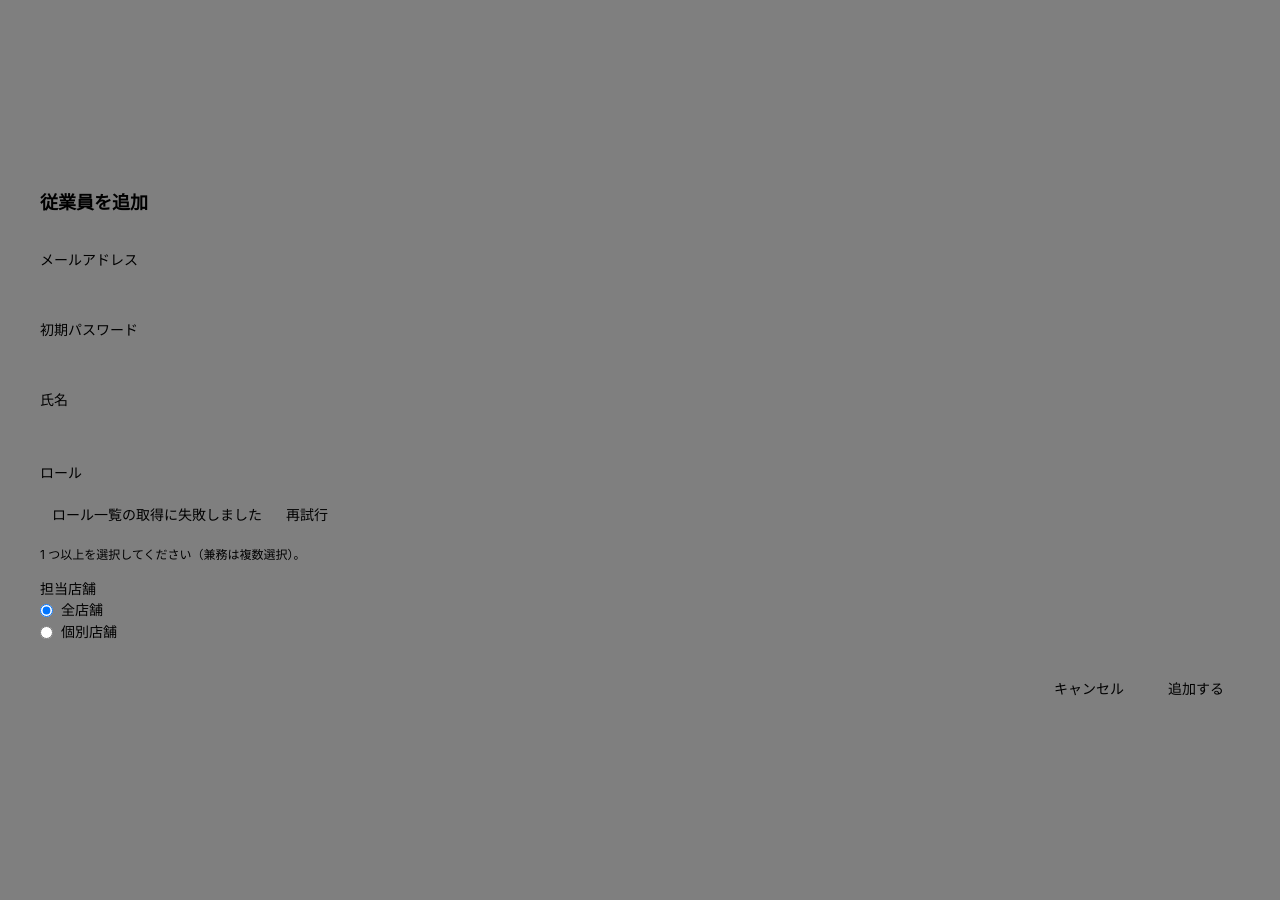
共通作成モーダル › ロール目録の取得に失敗したら、その組が失敗を名乗り再試行できる
The image size is (1280, 900).
Expected: the message shows "ロール一覧の取得に失敗しました", x1=52 y1=506 x2=262 y2=523
Click the button "再試行" at (307, 515), box x1=274 y1=499 x2=340 y2=531
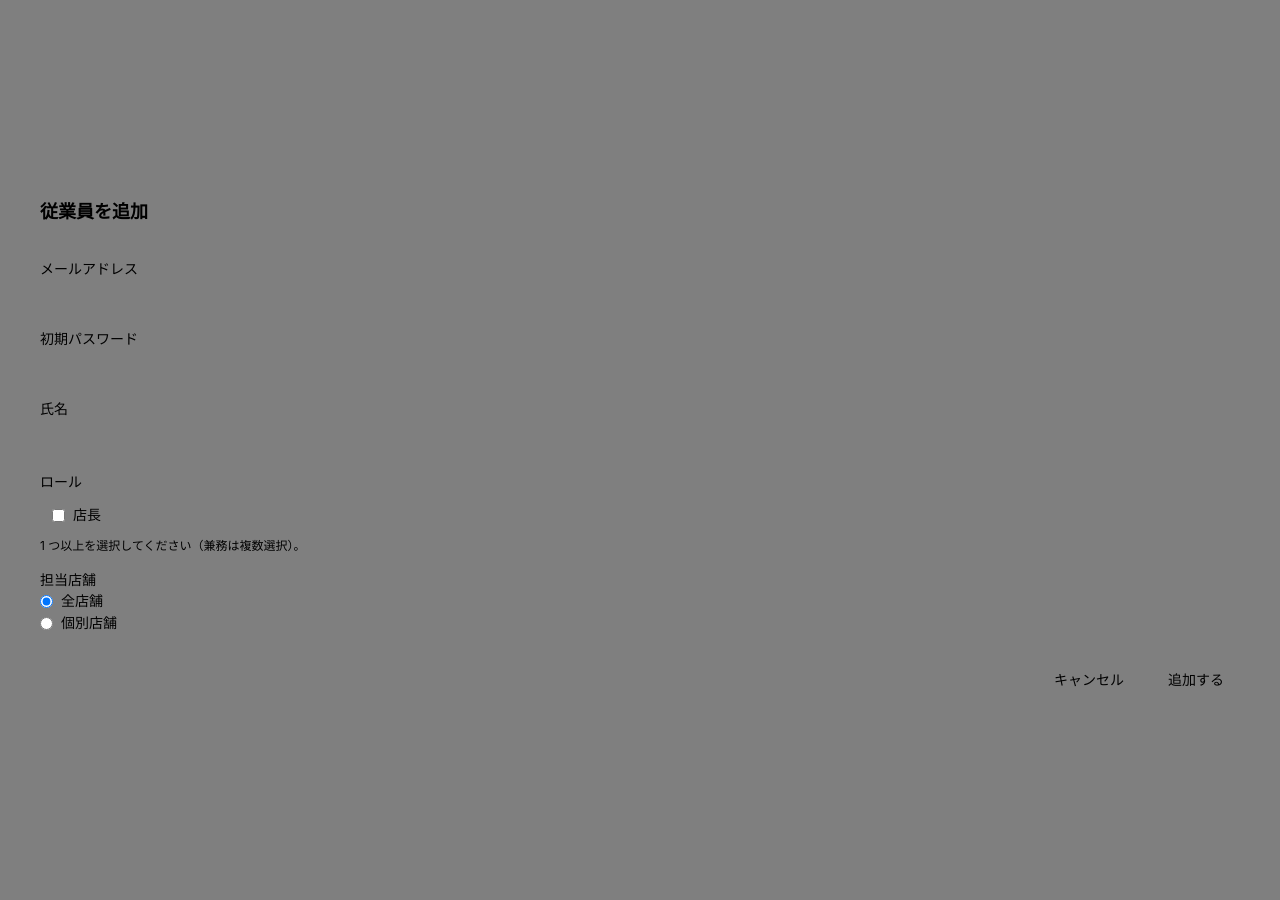
Result: the checkbox labelled "店長" is shown at x1=52 y1=508 x2=65 y2=522
Result: the message "ロール一覧の取得に失敗しました 再試行" is gone
